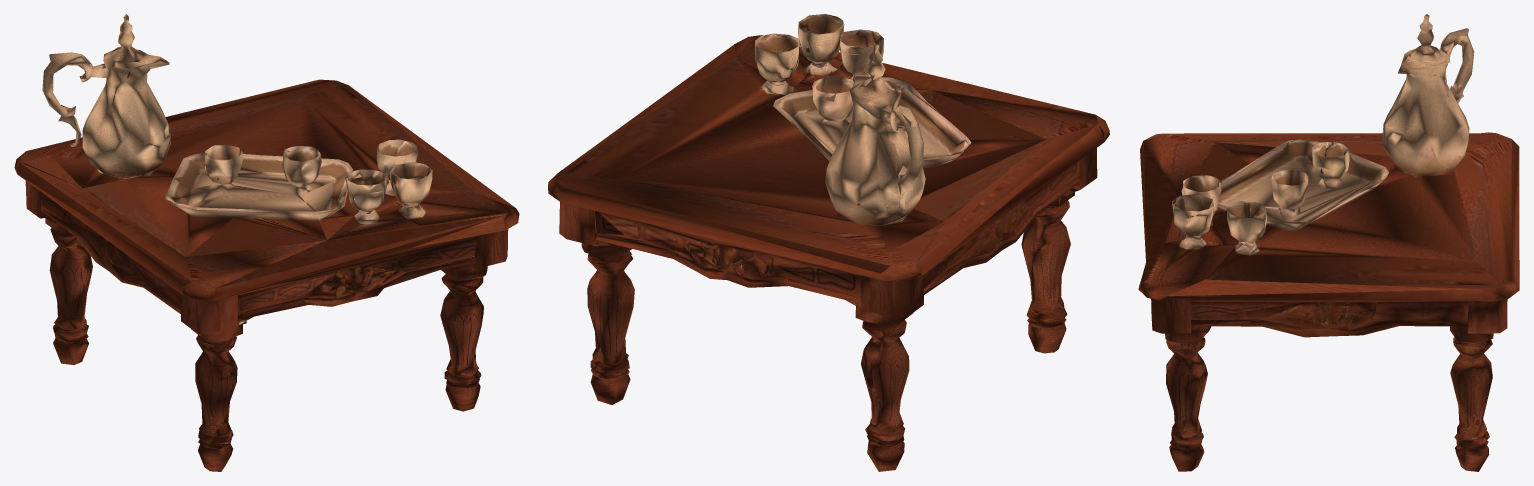
The model's file is la_chowki.glb.
3 renders of one model, left to right at view 1: azimuth 30°, elevation 25°; view 2: azimuth 150°, elevation 25°; view 3: azimuth 270°, elevation 25°, orthographic. The views are drawn at different scales.
Parts seen in each view (by area): view 1: la_chowki; view 2: la_chowki; view 3: la_chowki.
Boxes of the visible parts, x1,y1,x2,y2 form: la_chowki: [14, 14, 519, 471]; la_chowki: [548, 14, 1109, 471]; la_chowki: [1138, 14, 1519, 471].
Bounding box in the file's own units: 0.8824 × 0.9 × 0.8844.
Materials: 1 (1 with a texture image).
